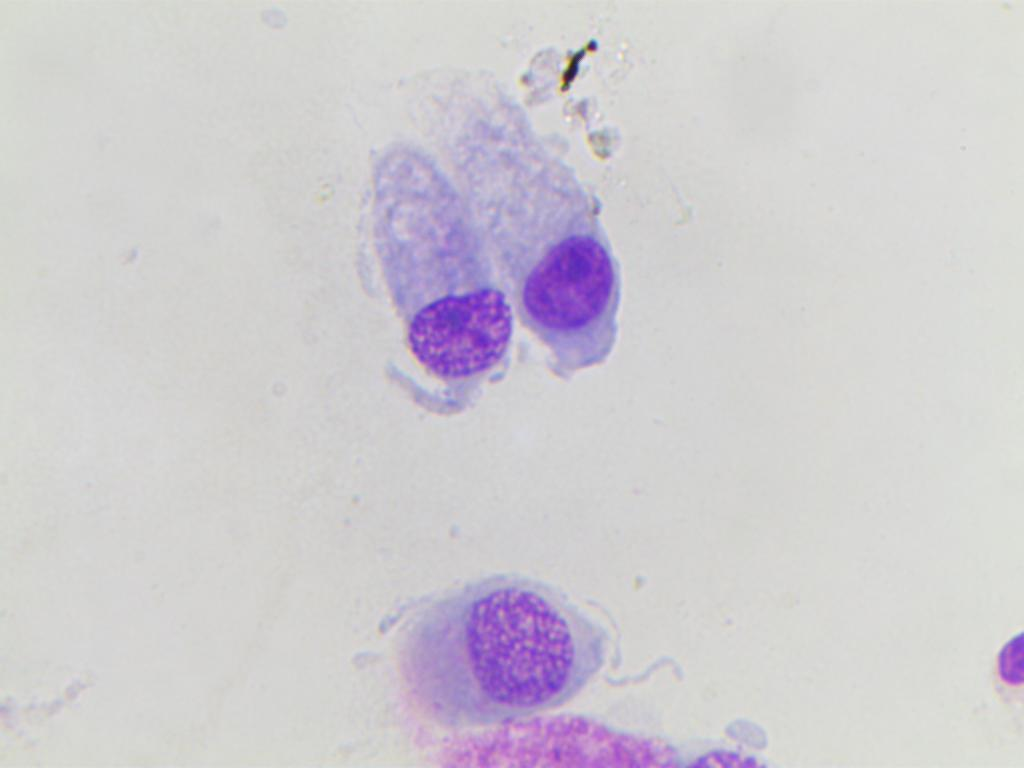goblet_cell: (364, 137, 510, 420), (381, 569, 610, 710), (519, 162, 627, 410)
